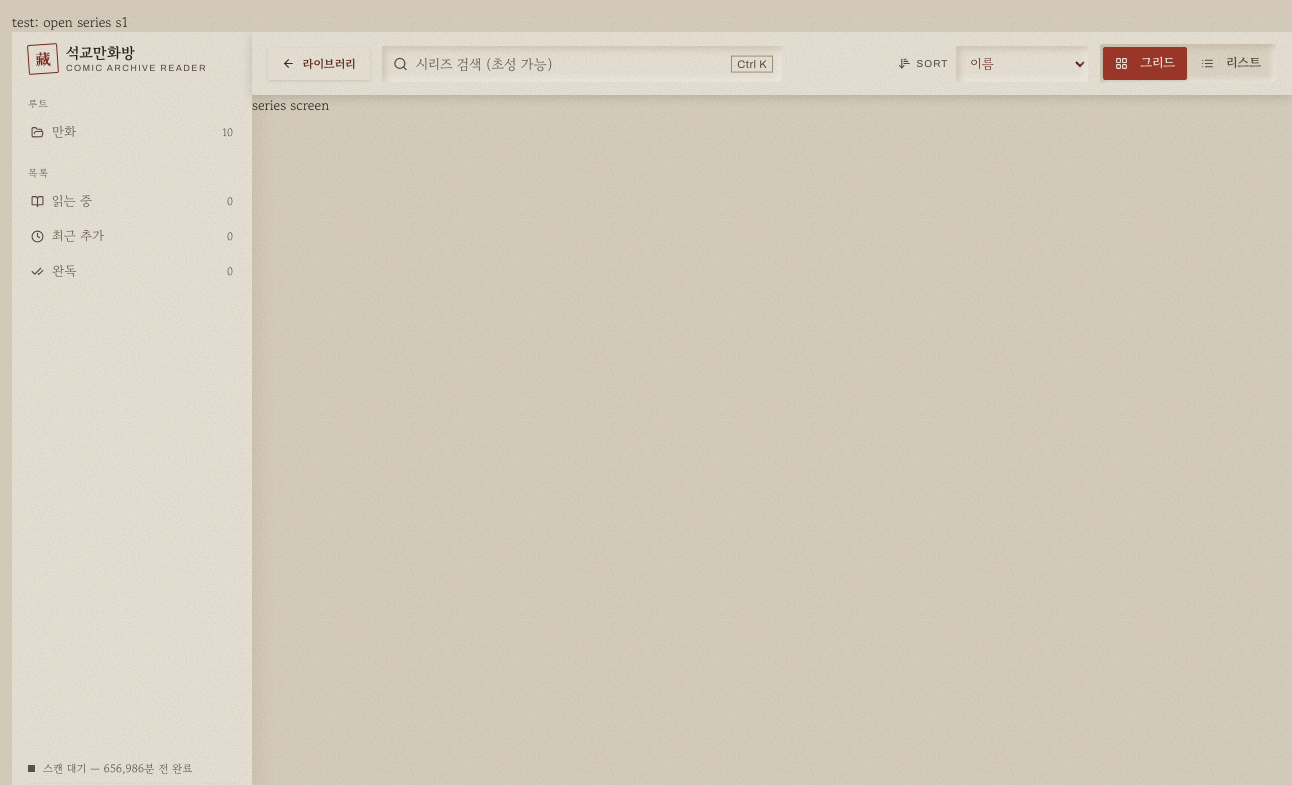
Test: library preferences changed off the library screen (A-5 write-back) › keeps a view switched on a series URL entered directly, and writes it back
The width and height of the screenshot is (1292, 785).
Expected: the text "series screen" is shown, [252, 95, 329, 115]
Click the radio button labelled "리스트": [1231, 63] box [1201, 53, 1261, 72]
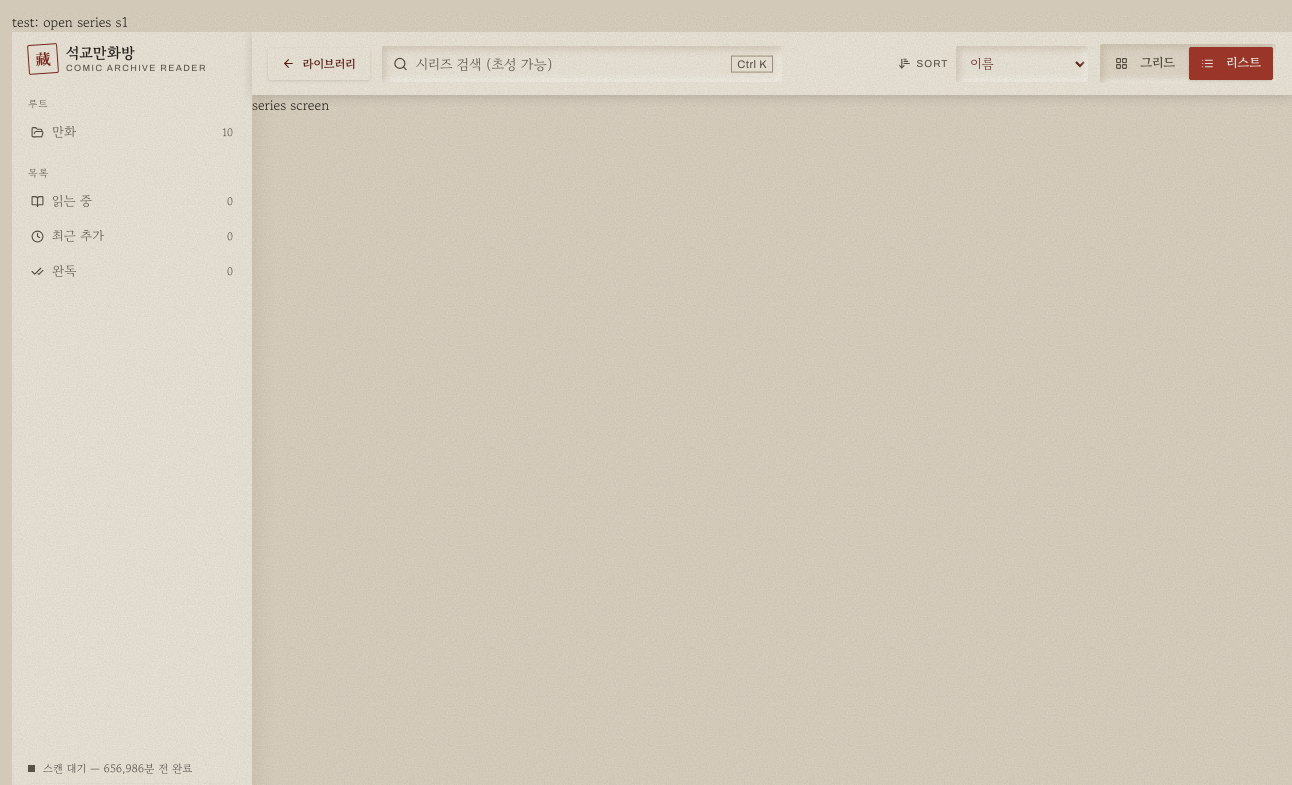
Click the button "라이브러리": [319, 64] box [268, 48, 370, 80]
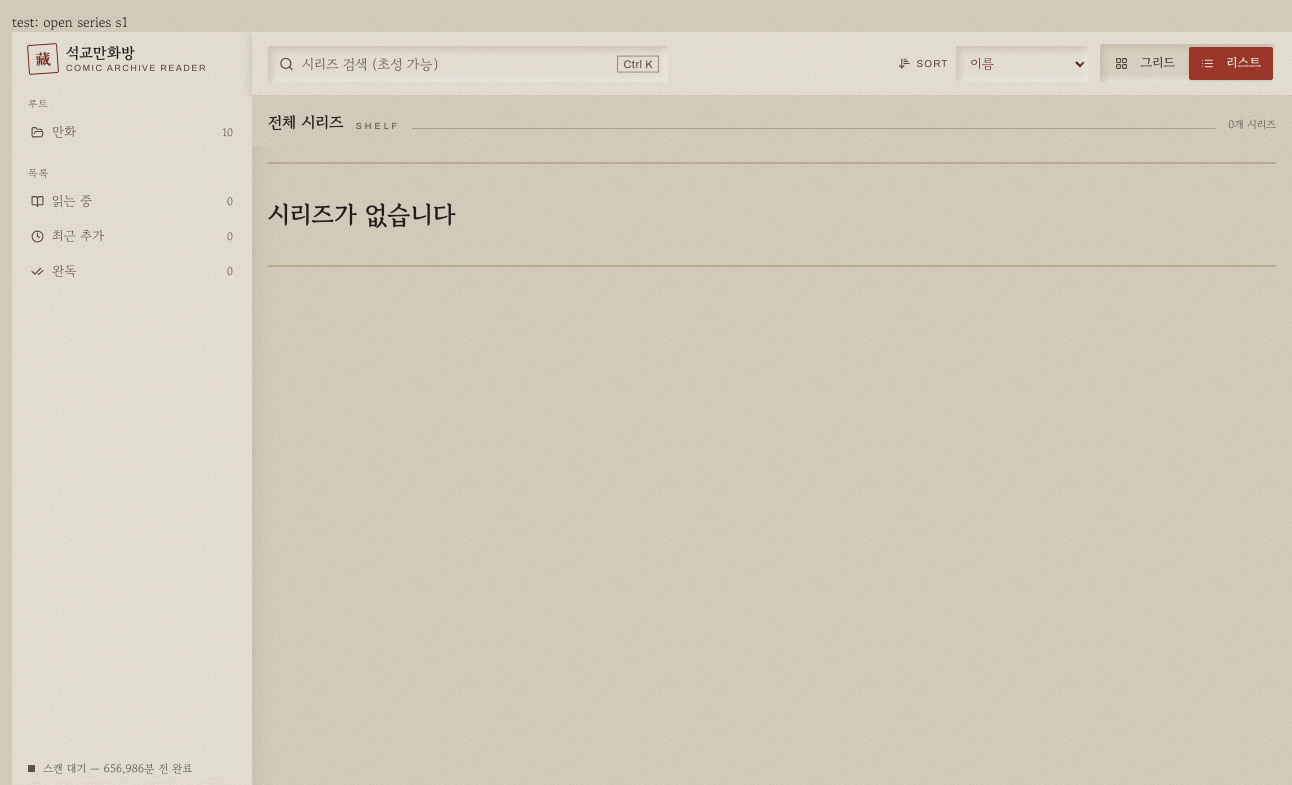
Expected: the text "series screen" is gone
